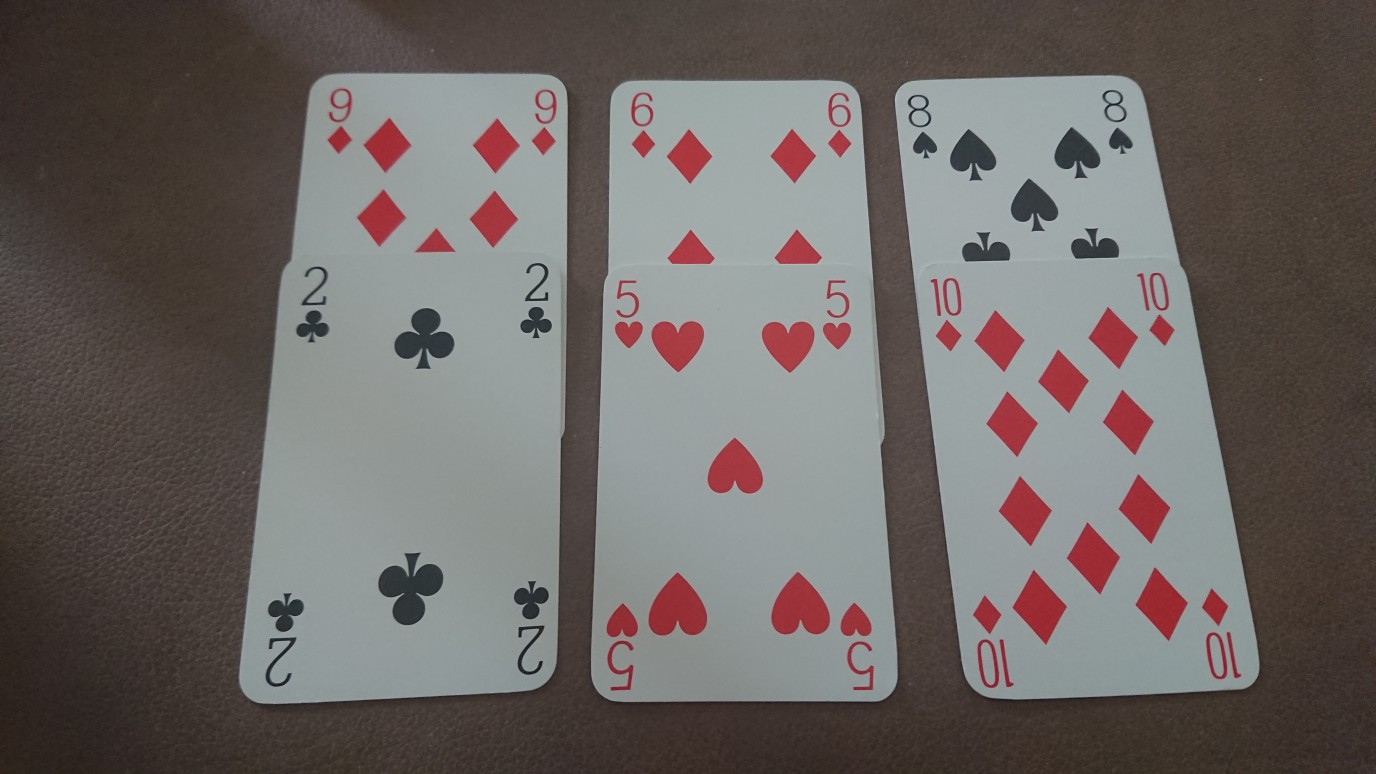10D: (1133, 267, 1180, 350), (928, 272, 966, 356)
2C: (516, 257, 558, 344), (294, 262, 333, 346)
5H: (819, 274, 857, 355), (611, 277, 648, 354)
6D: (625, 88, 663, 163), (823, 86, 857, 164)
8S: (1098, 85, 1139, 157), (903, 89, 942, 162)
9D: (324, 82, 357, 160), (527, 86, 561, 160)
